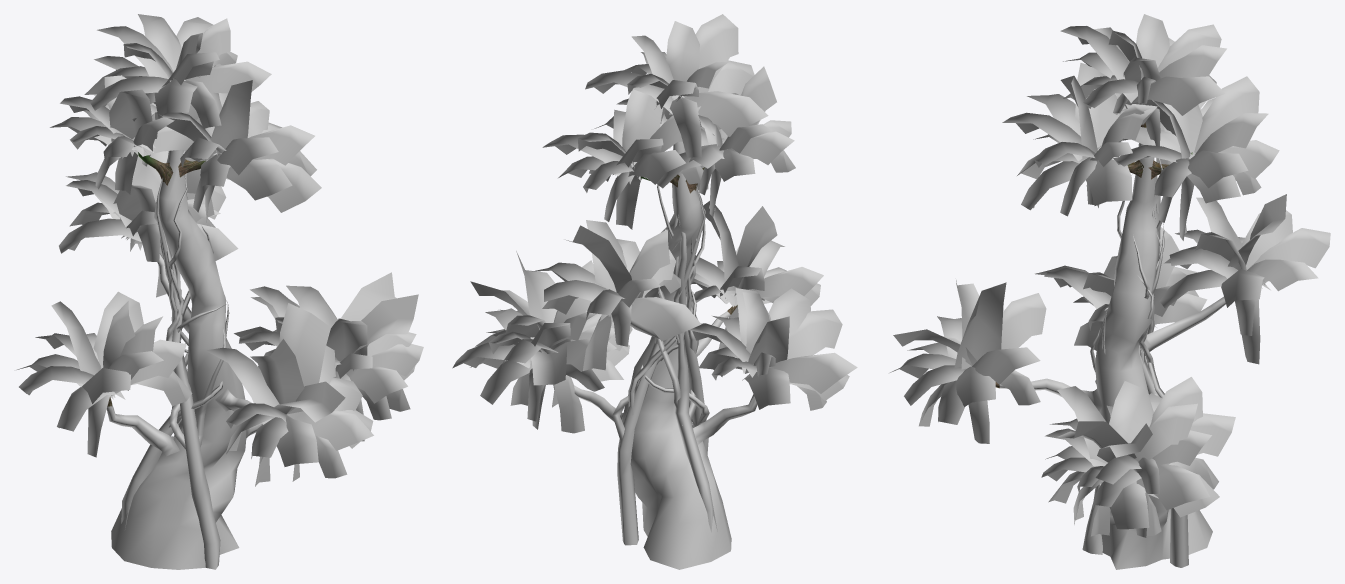
Rendered from Plant6_1_L2.fbx.
3 views of the same model, side by side, from view 1: azimuth 30°, elevation 25°; view 2: azimuth 150°, elevation 25°; view 3: azimuth 270°, elevation 25° (orthographic). The views are drawn at different scales.
Parts seen in each view (by area): view 1: polySurface2046; view 2: polySurface2046; view 3: polySurface2046.
Boxes of the visible parts, bbox=[...] form: polySurface2046: bbox=[17, 14, 423, 569]; polySurface2046: bbox=[452, 14, 857, 569]; polySurface2046: bbox=[890, 14, 1330, 569].
Bounding box in the file's own units: 723 × 934 × 718.
